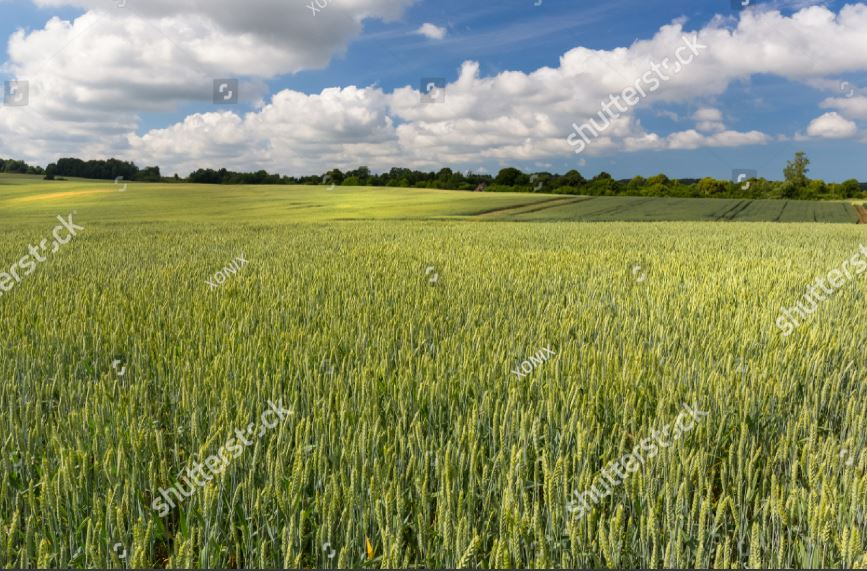Wheat: (212, 331, 642, 559)
